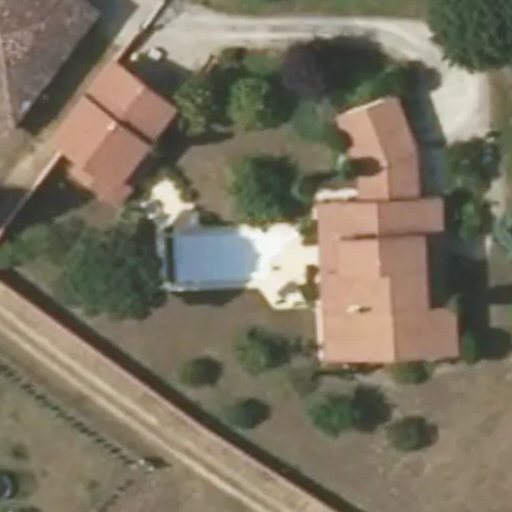pool: (203, 223, 310, 261)
